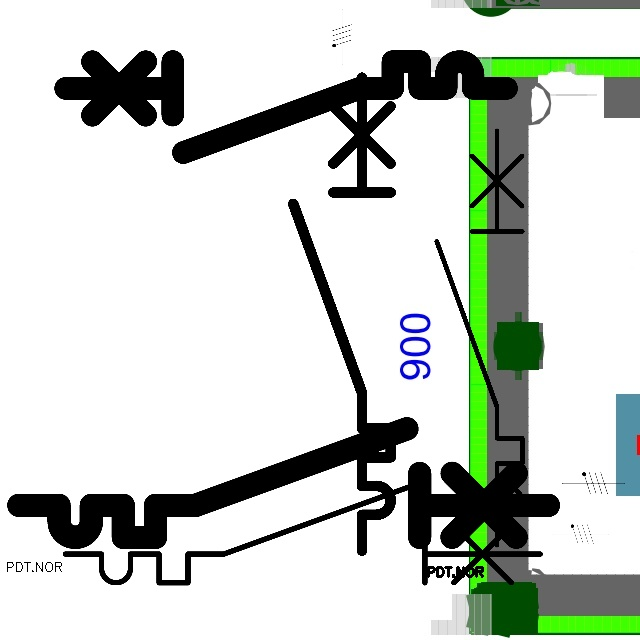interruptor_termomagnetico: (5, 415, 562, 551), (53, 473, 553, 595), (281, 65, 403, 562), (54, 50, 518, 163), (426, 120, 533, 556)
